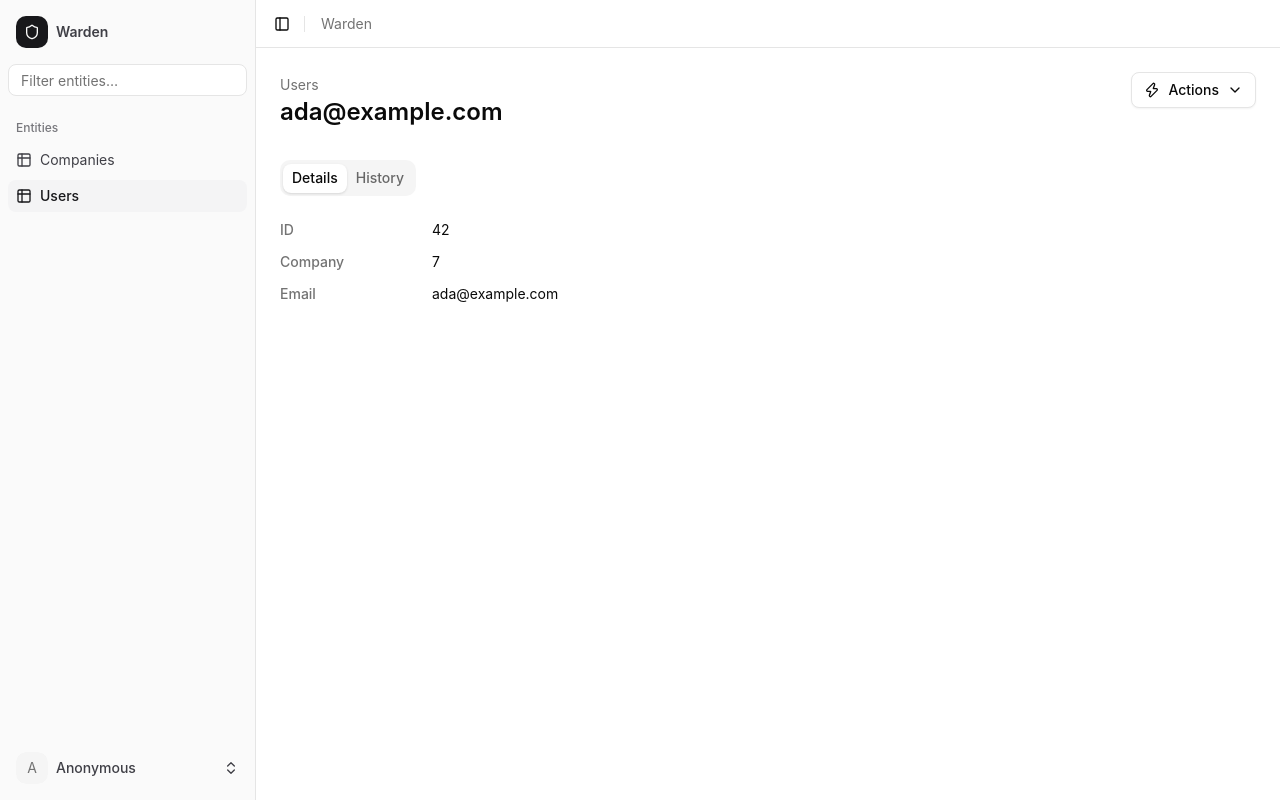
Test: actions on the record page › previews the change set, then runs it with the preview token
Click the button "Actions" at (1194, 90), box [1131,72,1256,108]
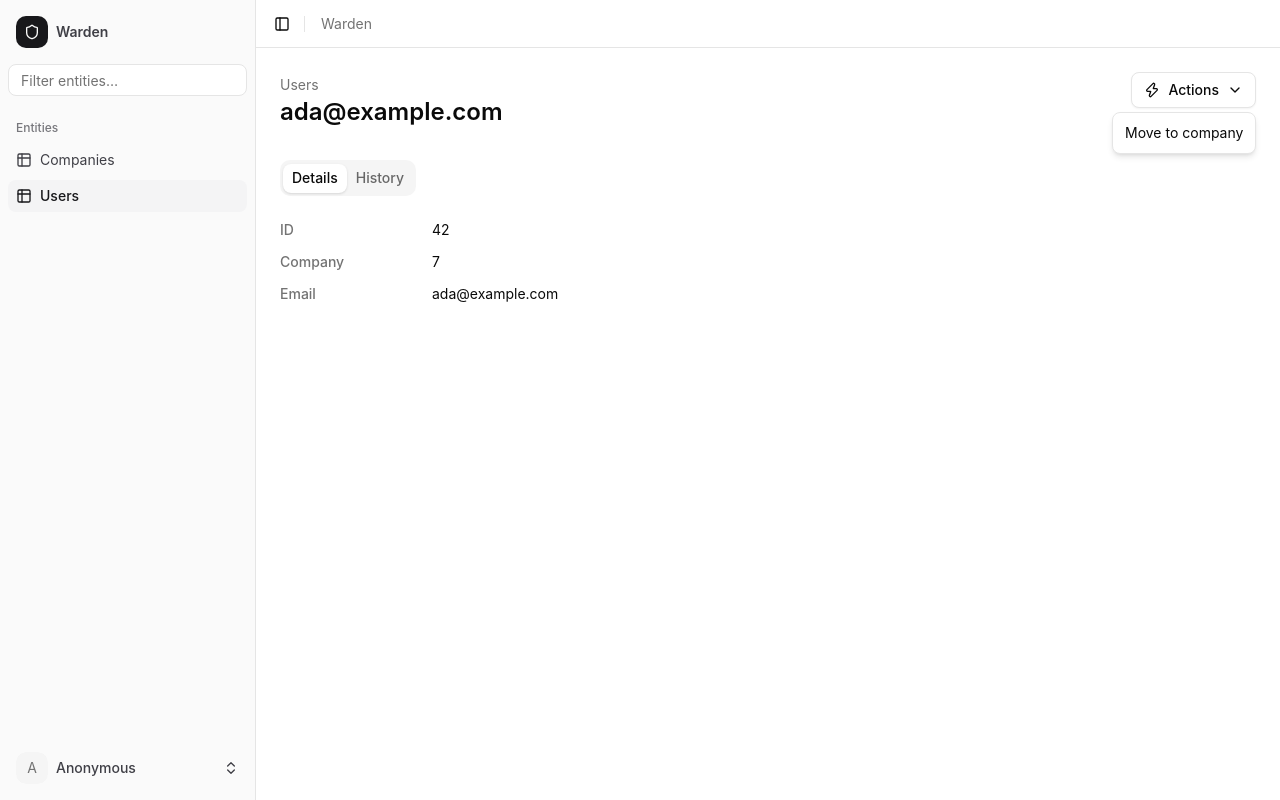
Click the menu item "Move to company" at (1184, 132), box [1125,124,1243,141]
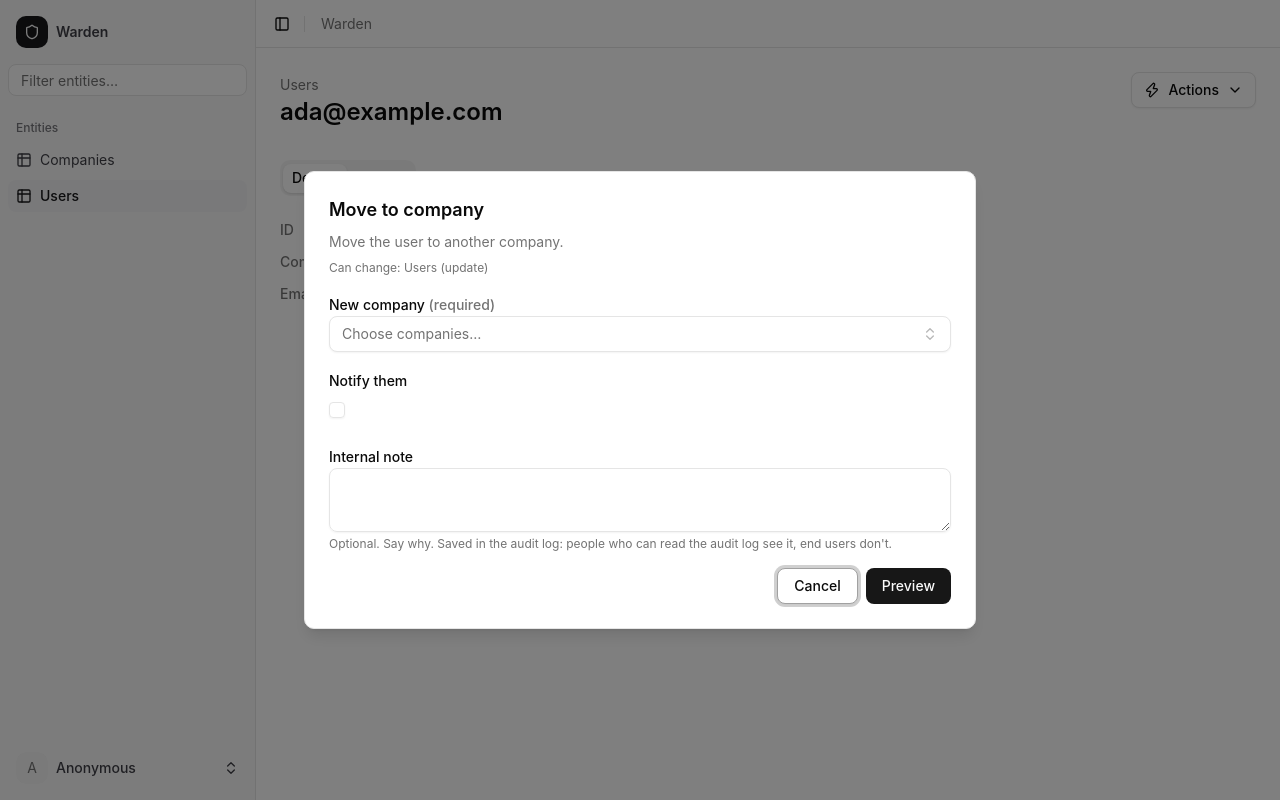
expect the text "Can change: Users (update)" is shown: met, box [329,260,488,275]
expect the checkbox named "Notify them" is not checked: met, box [329,402,345,418]
Click the dropdown named "New company" at (412, 334), box [329,316,951,352]
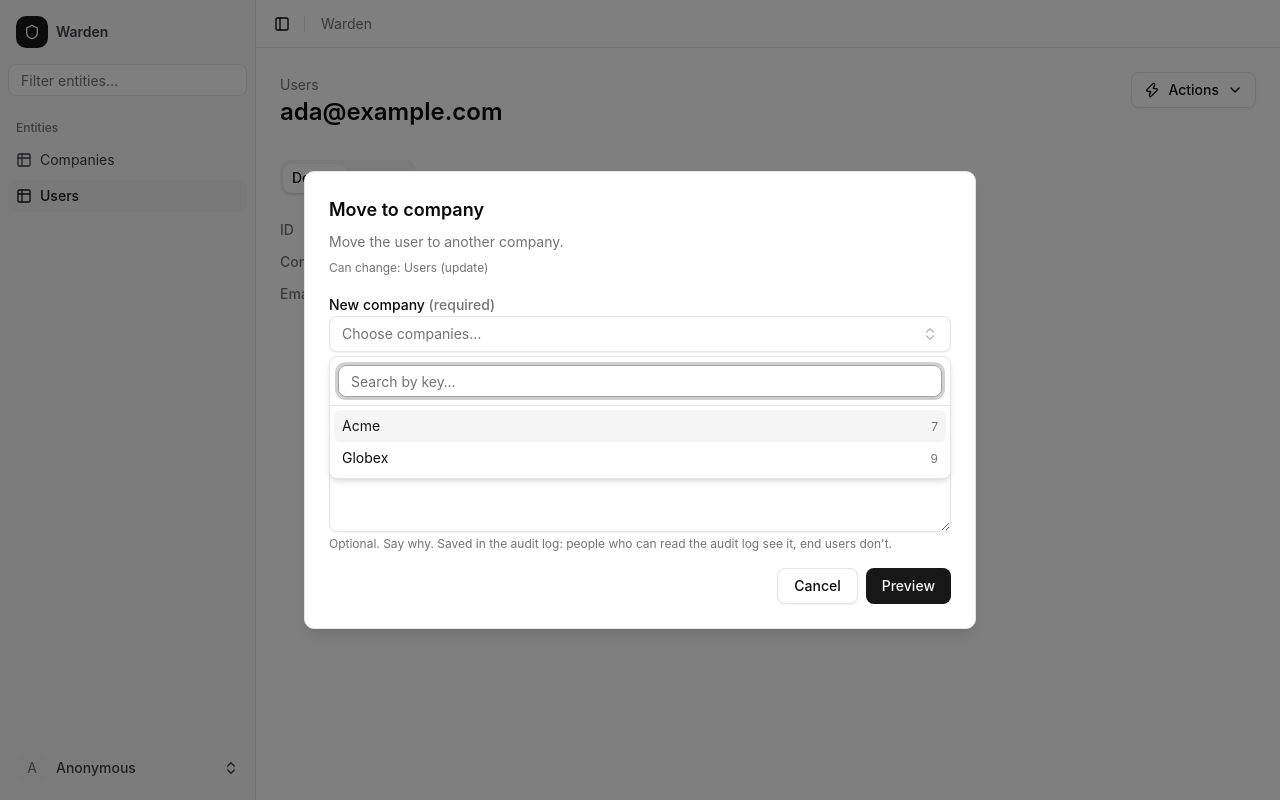
Click the option "Globex 9" at (365, 458), box [342,449,938,466]
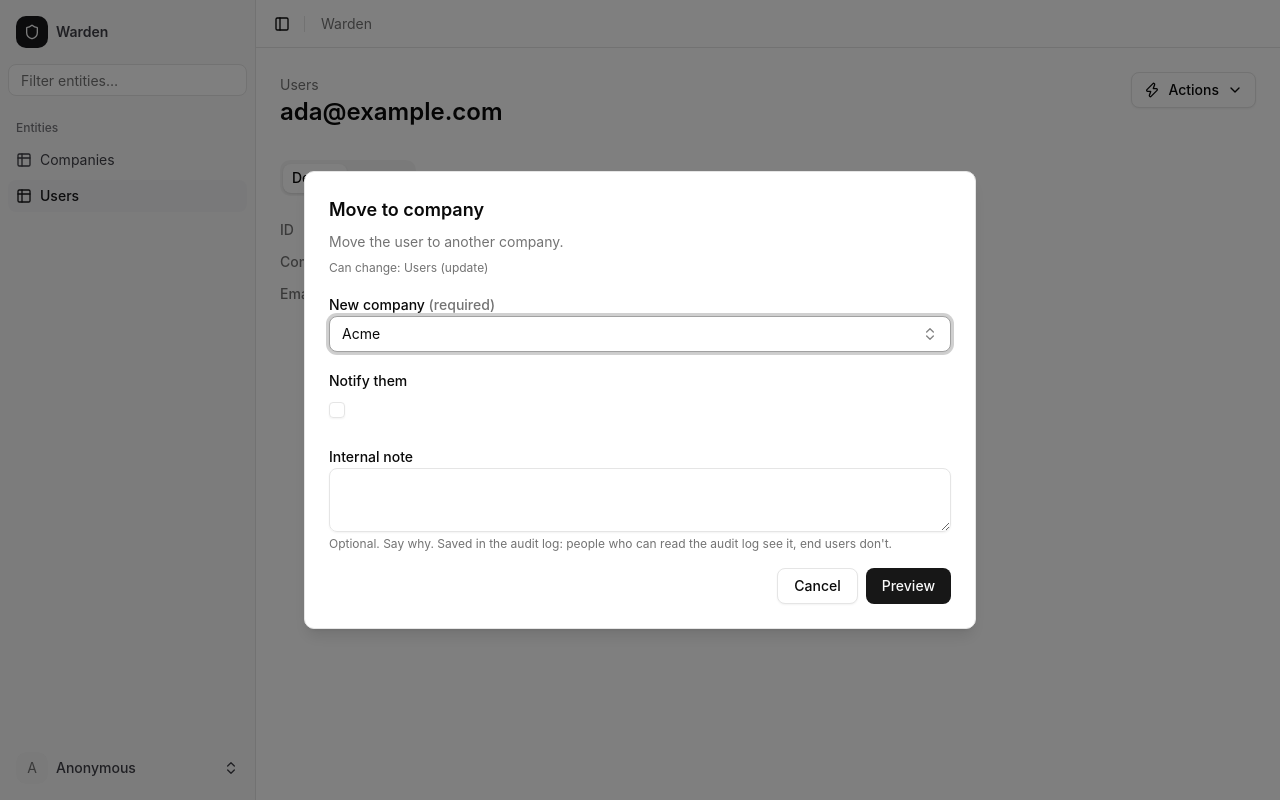
Click the button "Preview" at (908, 586), box [866,568,951,604]
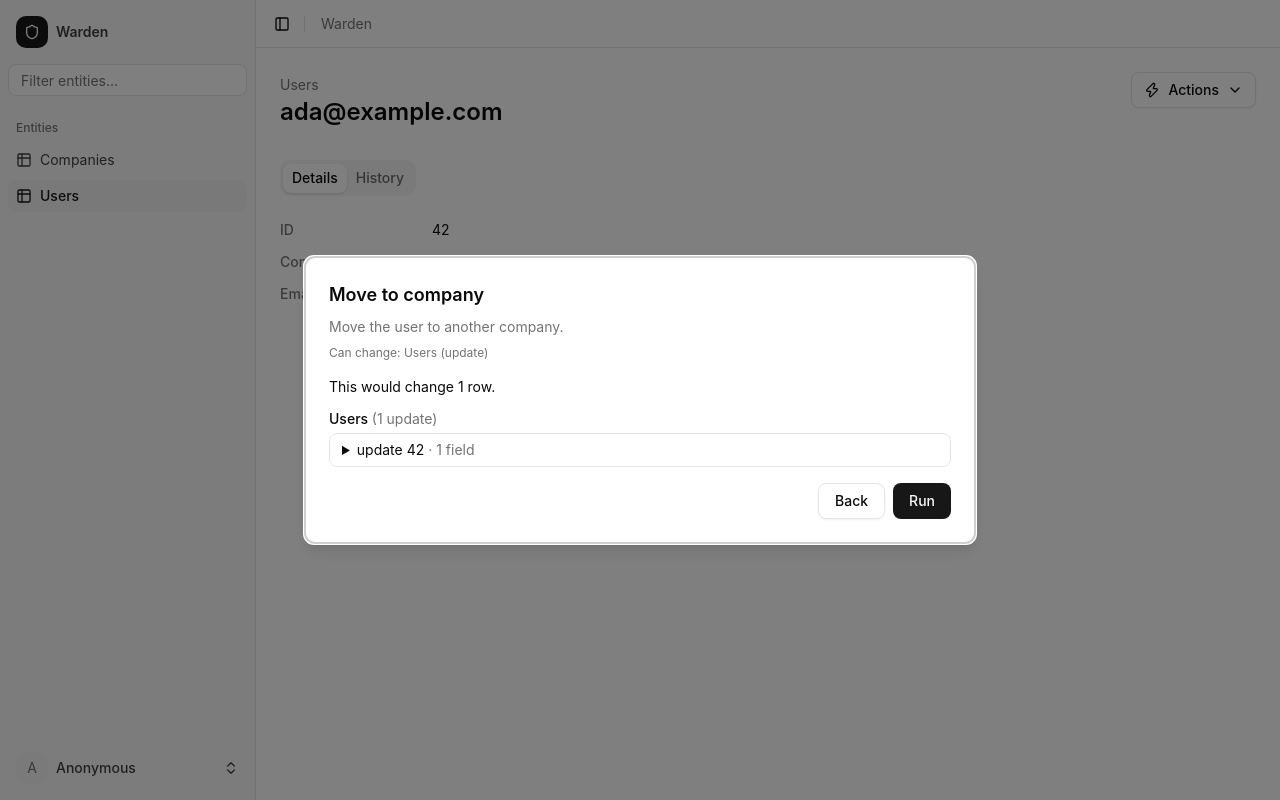
expect the element named "Changes" shows "This would change 1 row.": met, box [329,377,951,467]
expect the element named "Changes" shows "Users (1 update)": met, box [329,377,951,467]
Click the button "Run" at (922, 501), box [893,483,951,519]
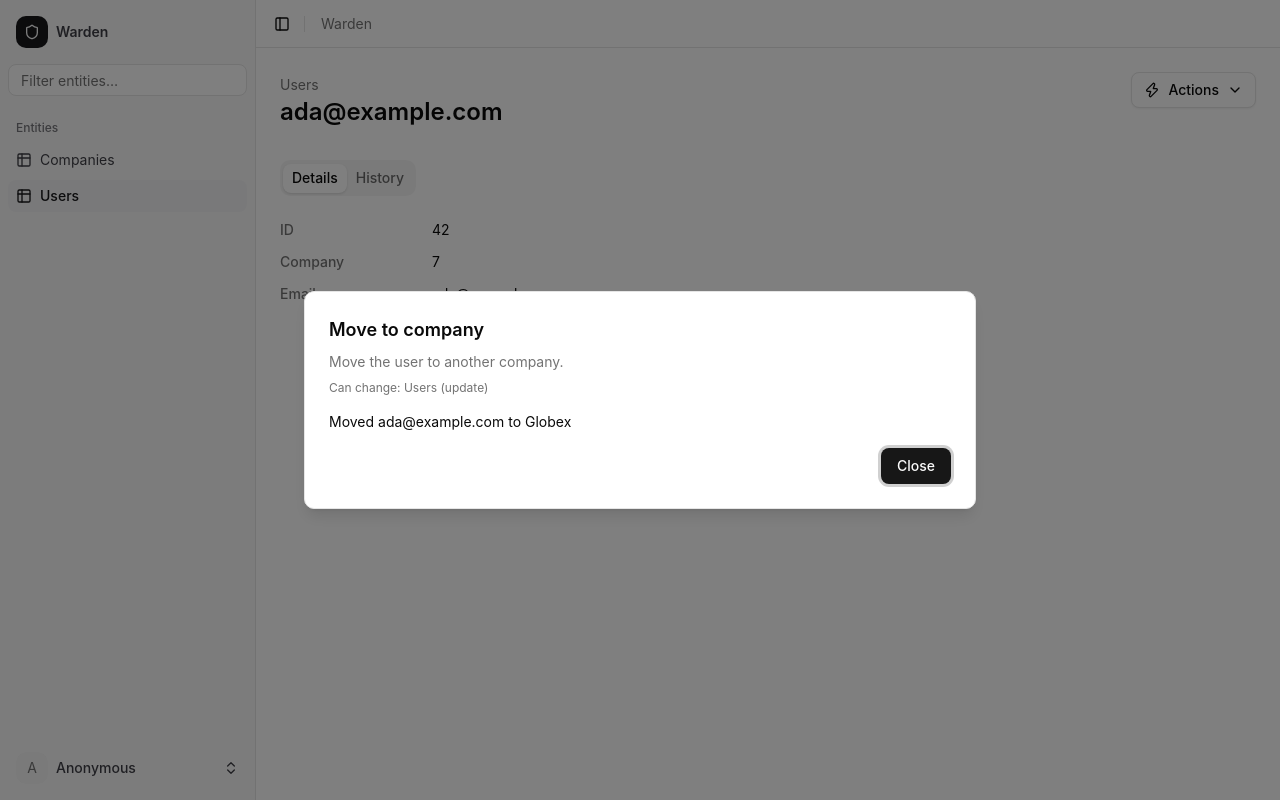
expect the message reads "Moved ada@example.com to Globex": met, box [329,413,571,430]
